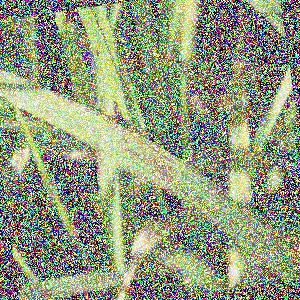Brown_Spot: (143, 162, 175, 191), (116, 146, 142, 168), (156, 148, 175, 171)
